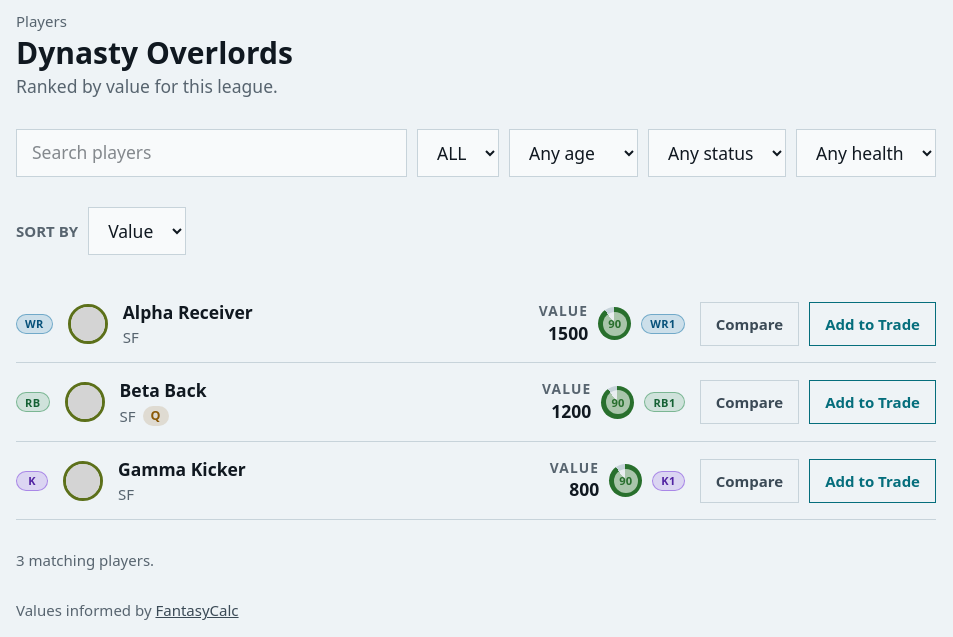
Test: PlayersContent › filters by search text
This screenshot has width=953, height=637.
Type "beta" into the field with placeholder "Search players".
click(212, 153); type("beta")  # box [16,129,407,177]
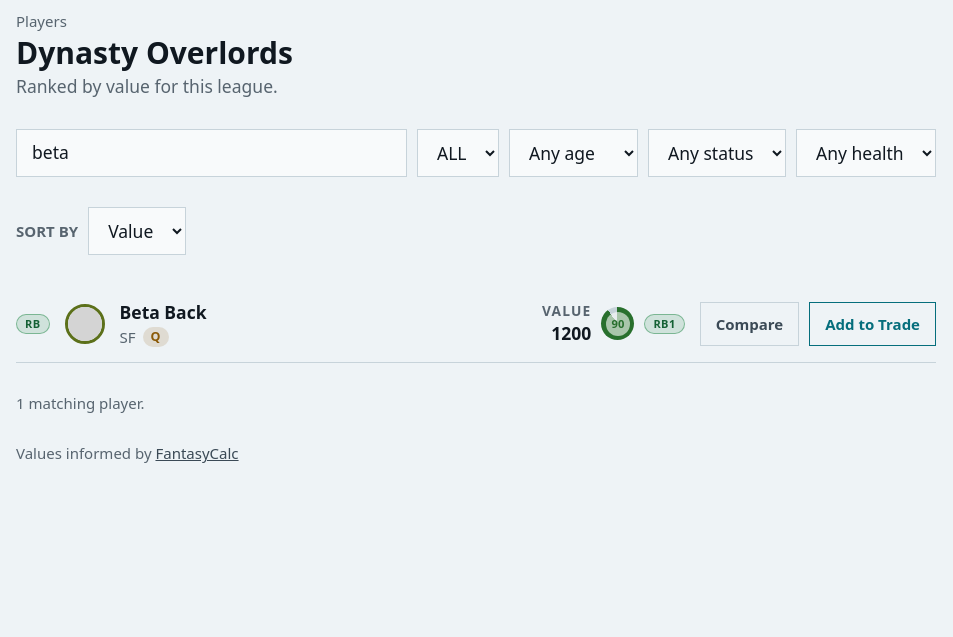
Check: the text "Beta Back" is shown, box [120,300,206,325]
Check: the button "Alpha Receiver" is gone
Check: the text "1 matching player." is shown, box [16,394,144,414]
